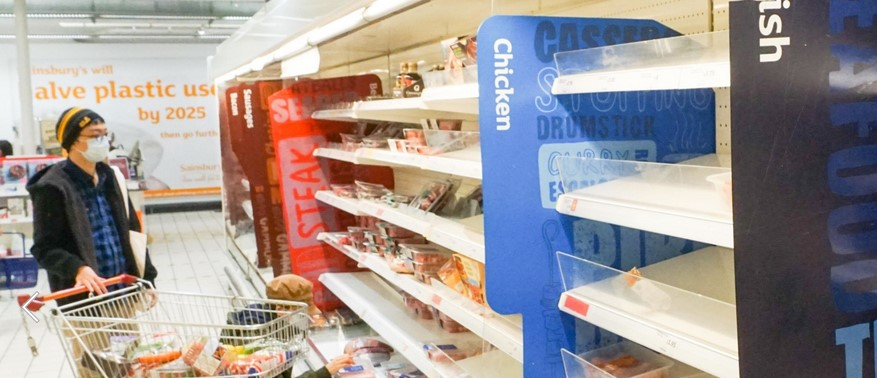face_with_mask: (66, 113, 110, 163)
